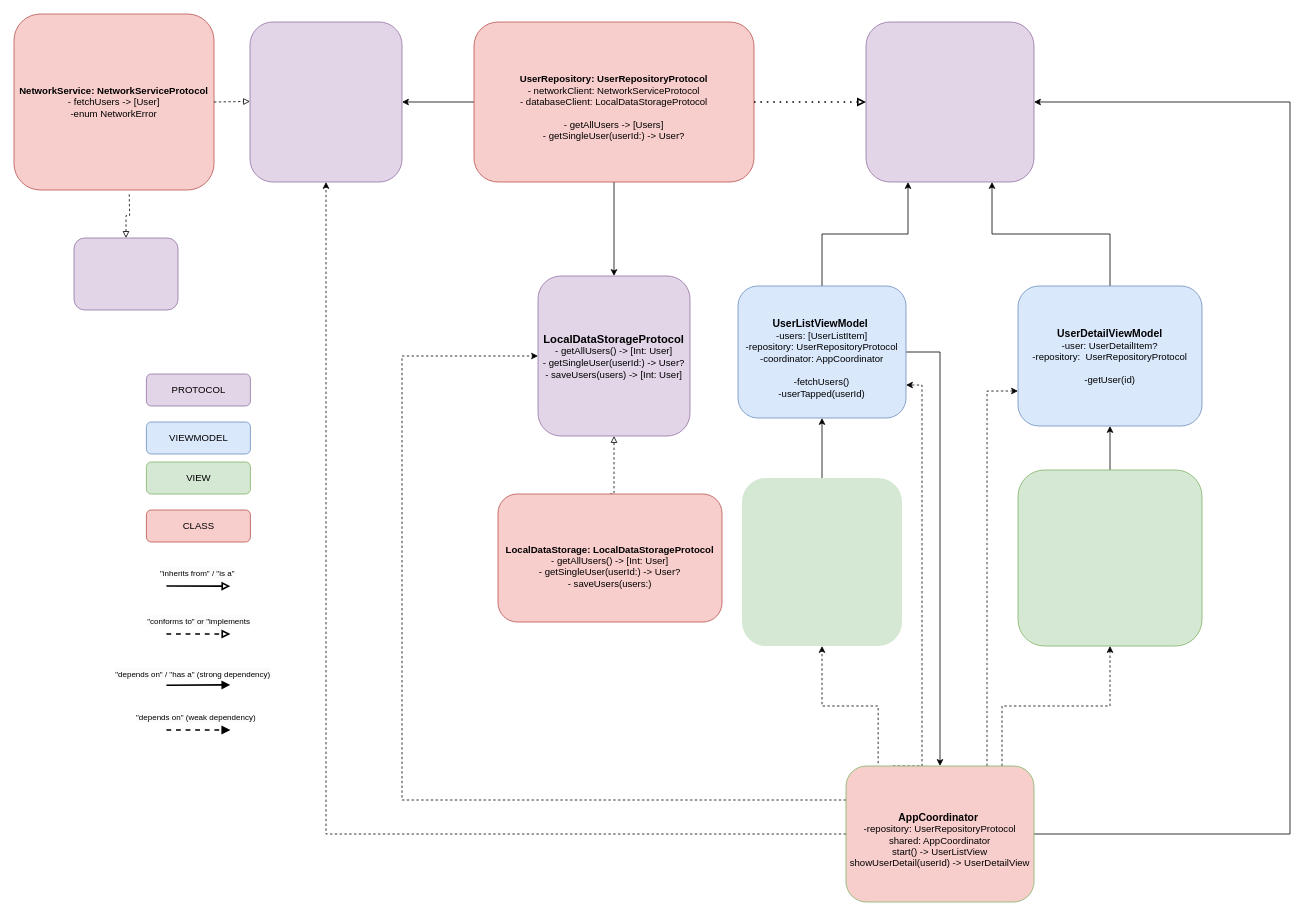
This 1310x916 diagram has some shape labels left out. The centre of each missing label's shape, as x and y in pixels:
NetworkErrorProtocol - invalidURL -invalidResponse invalidStatusCode: [125,273]
NetworkServiceProtocol - fetchUsers -> [User]: [325,101]
UserDetailView -viewModel: UserDetailViewModel -userId: [1109,557]
UserListView -viewModel: UserListViewModel: [822,562]
UserRepositoryProtocol - getAllUsers -> [User] - getSingleUser(userId:) -> User?: [949,101]
